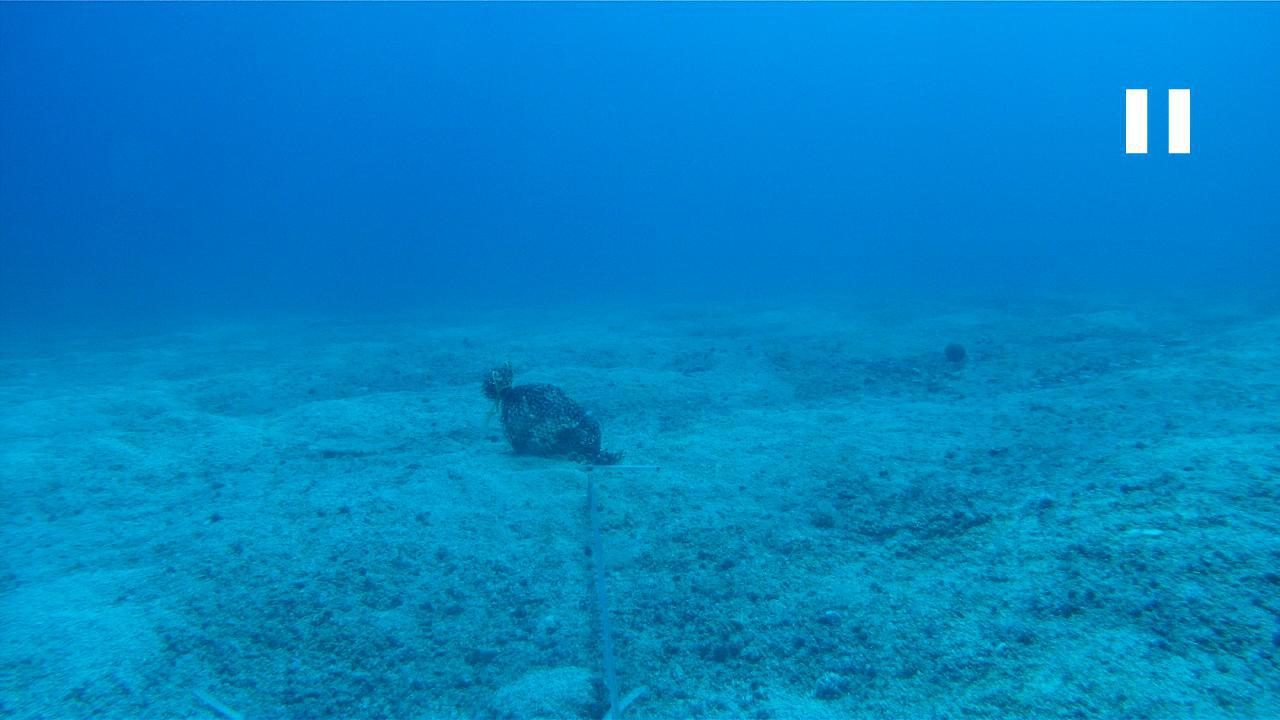bothus: (306, 431, 412, 454)
